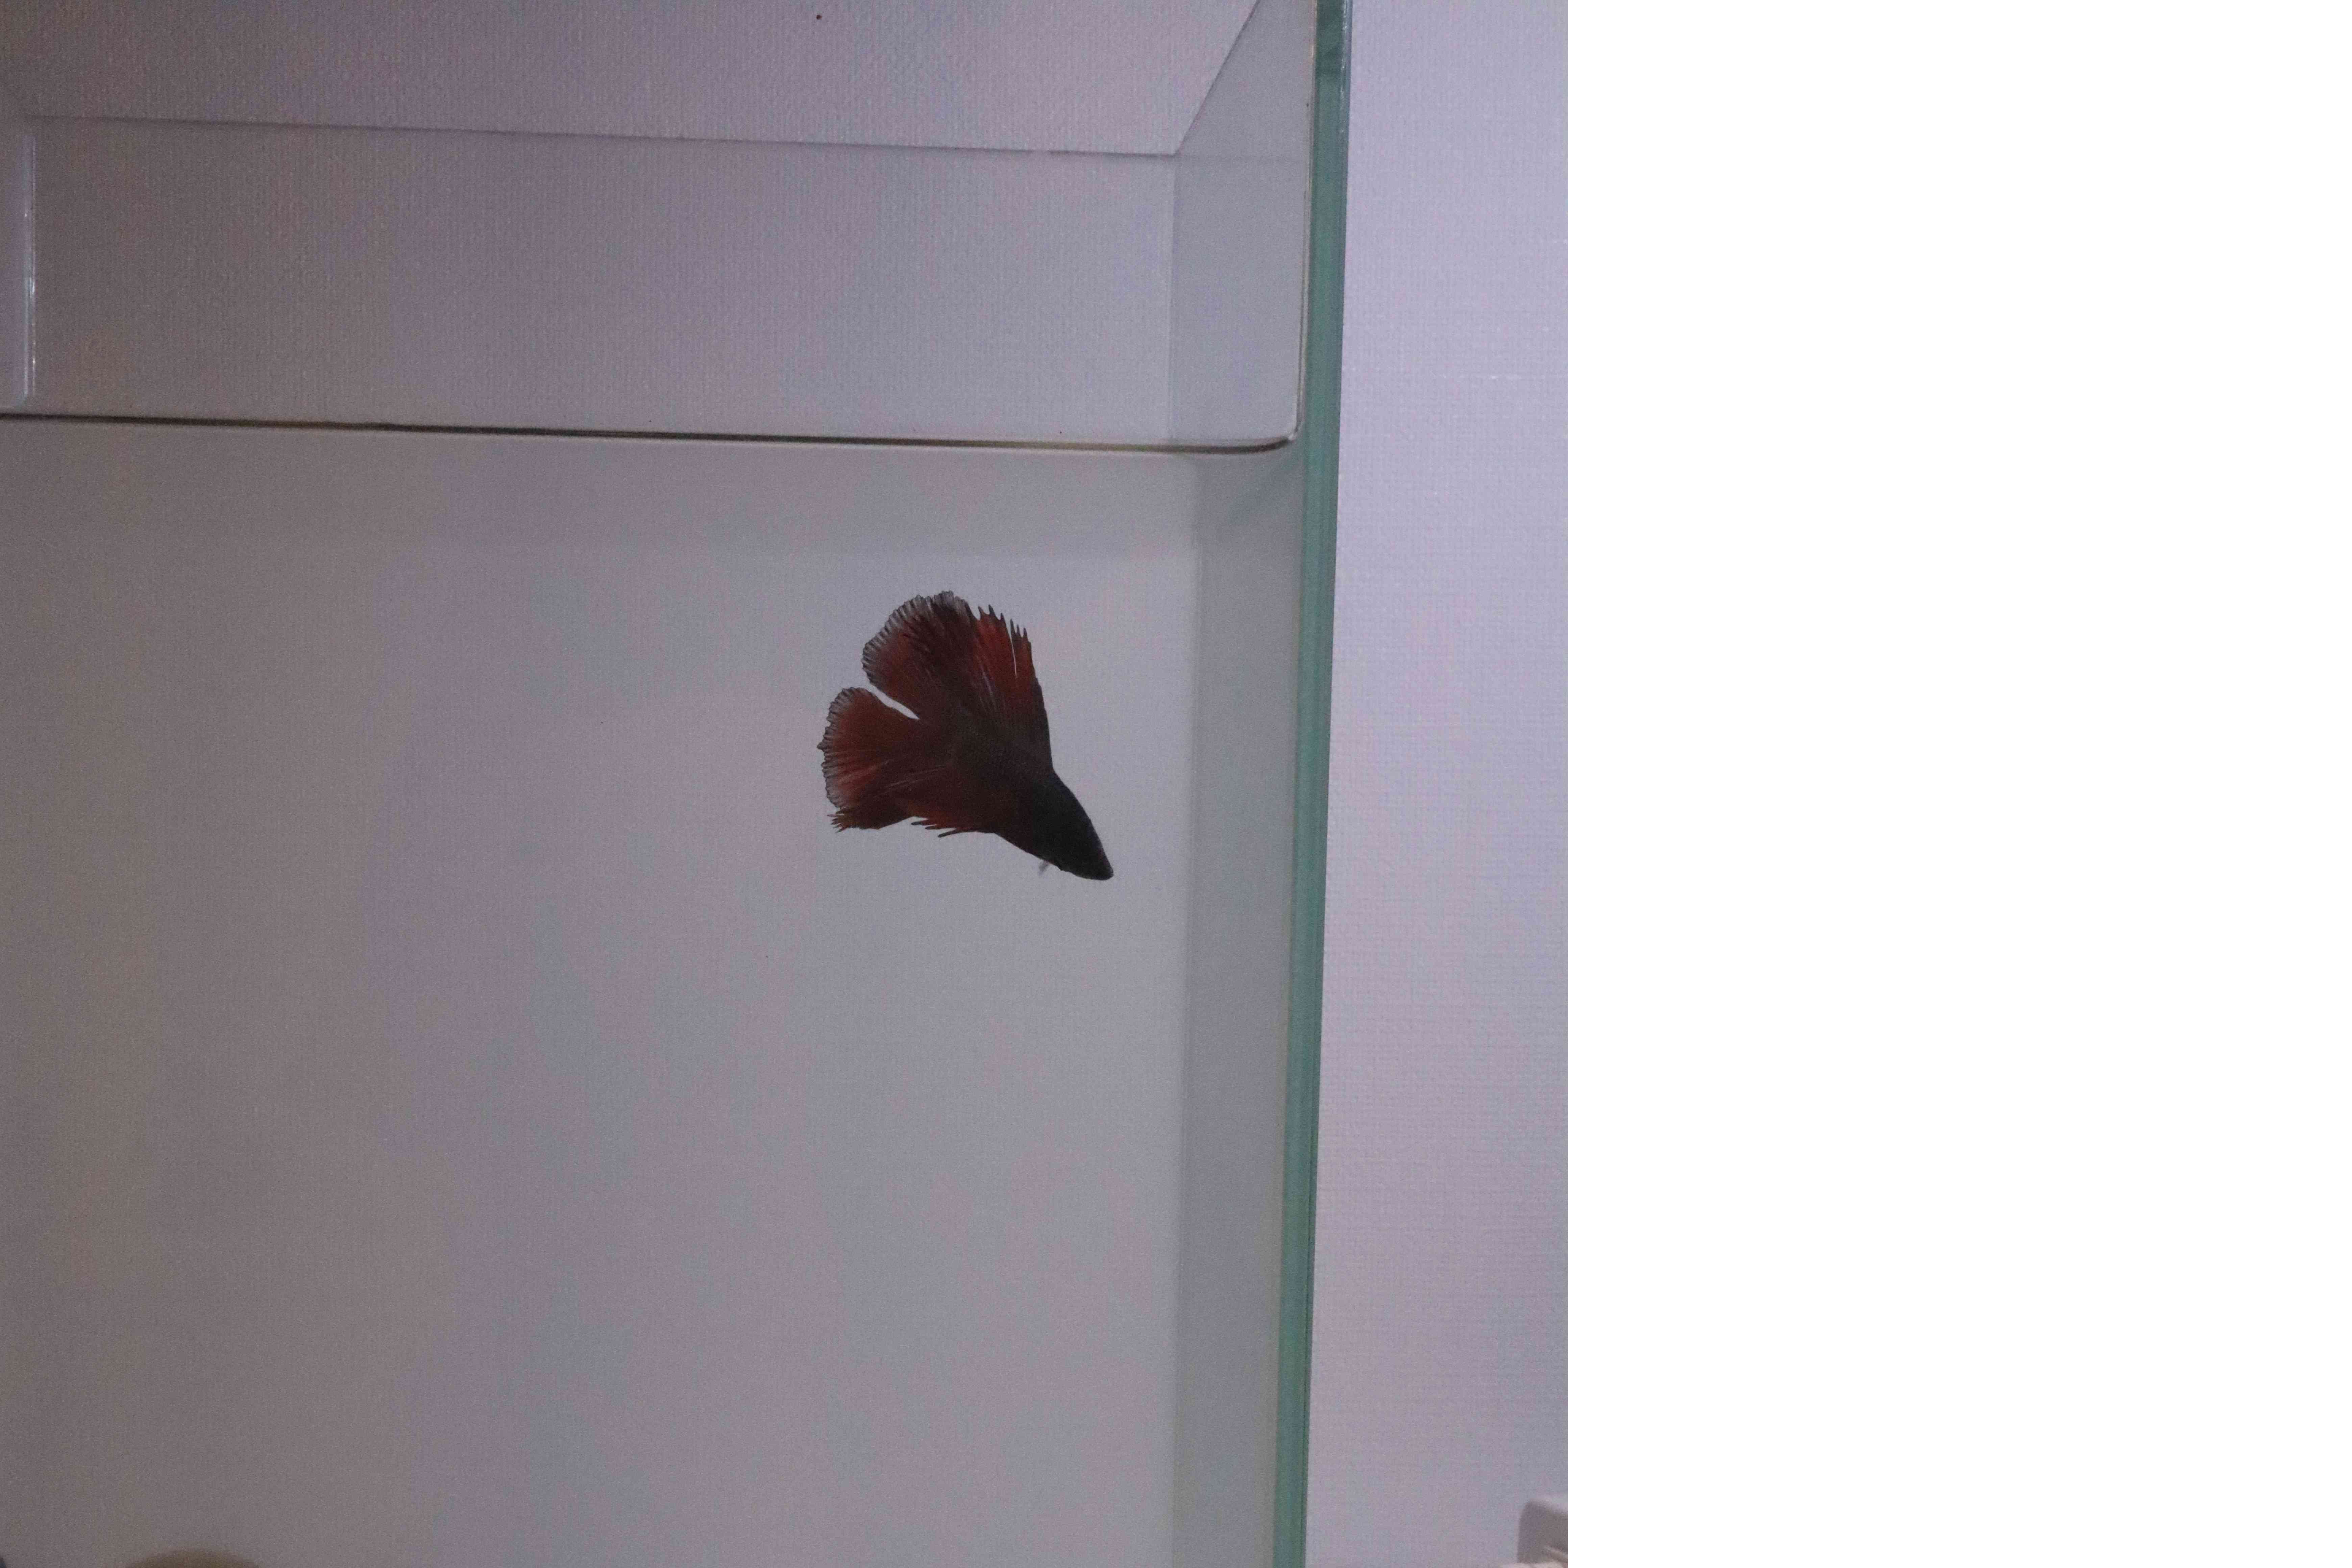fish: (819, 578, 1116, 893)
